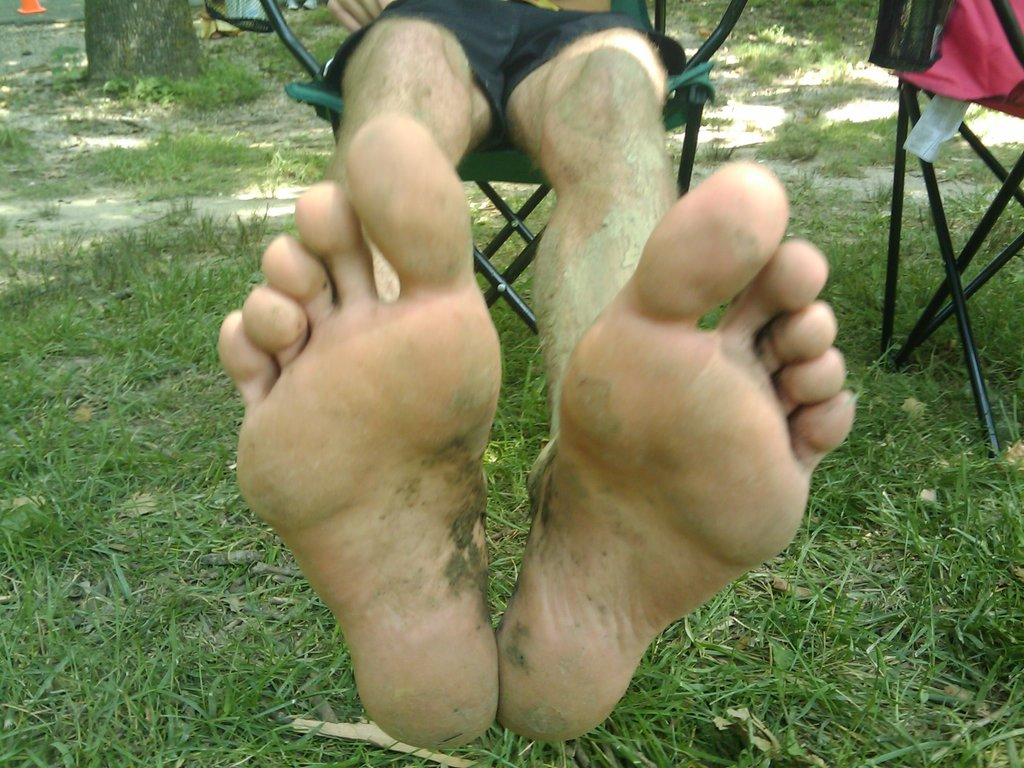Person: (217, 0, 856, 747)
